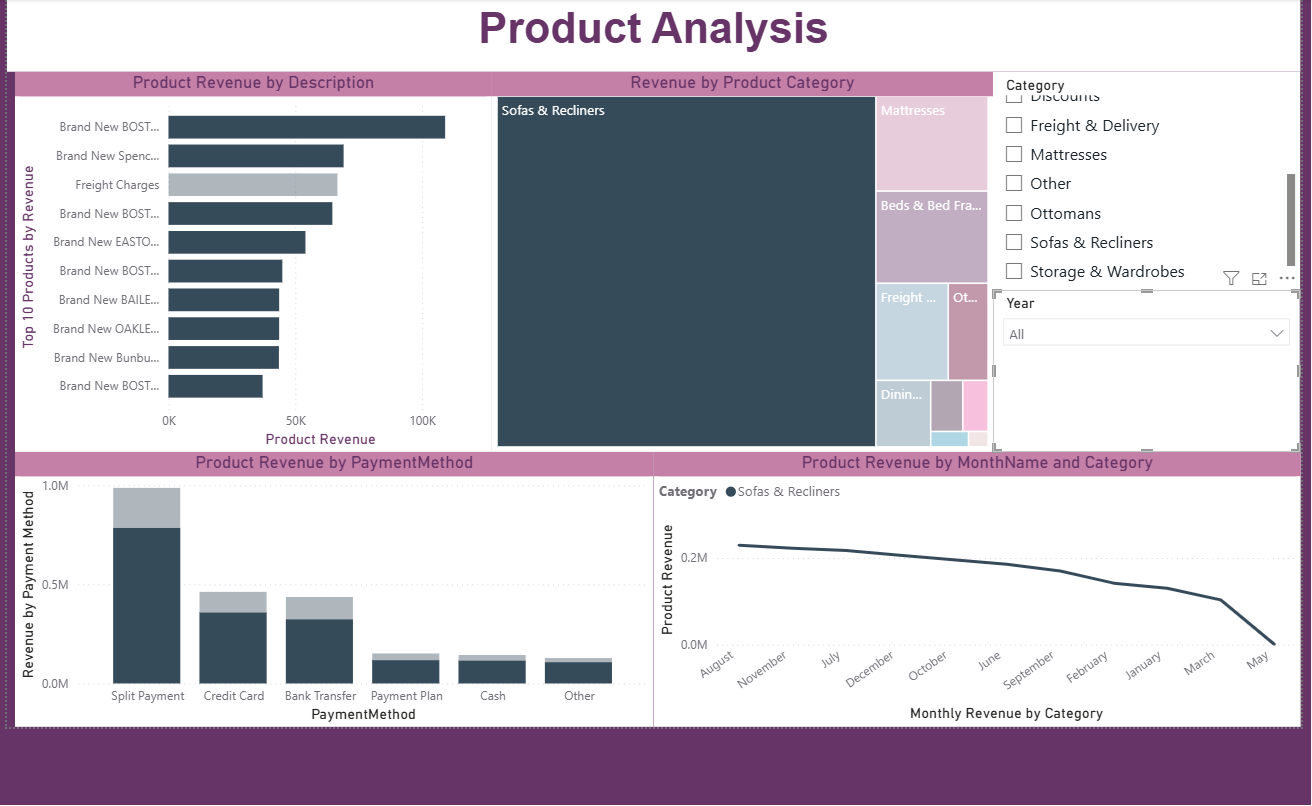

This screenshot's page, from the dashboard's own definition file:
{"tool":"powerbi","page":{"name":"Product Analysis","canvas":[1280,720],"ordinal":2},"visuals":[{"type":"clusteredBarChart","fields":{"Category":["Invoice_Line_Items.Description"],"Y":["Invoice_Line_Items.Product Revenue"]},"box":[8,72,472,376],"z":0},{"type":"treemap","title":"Revenue by Product Category","fields":{"Group":["Invoice_Line_Items.Category"],"Values":["Invoice_Line_Items.Product Revenue"]},"box":[480,72,496,376],"z":1000},{"type":"clusteredColumnChart","fields":{"Category":["Invoice_Line_Items.PaymentMethod"],"Y":["Invoice_Line_Items.Product Revenue"]},"box":[8,448,632,272],"z":2000},{"type":"lineChart","fields":{"Category":["Invoice_Line_Items.MonthName"],"Y":["Invoice_Line_Items.Product Revenue"],"Series":["Invoice_Line_Items.Category"]},"box":[640,448,640,272],"z":3000},{"type":"slicer","fields":{"Values":["Invoice_Line_Items.Category"]},"box":[976,72,304,216],"z":4000},{"type":"slicer","fields":{"Values":["Invoice_Line_Items.Year"]},"box":[976,288,304,160],"z":5000},{"type":"textbox","box":[0,0,1280,72],"z":6000}]}

Visuals, with their boxes in screenshot pixels (x1, y1, x2, y2):
clusteredBarChart - Invoice_Line_Items.Description x Invoice_Line_Items.Product Revenue: 12 69 489 449
"Revenue by Product Category" treemap: 489 69 990 449
clusteredColumnChart - Invoice_Line_Items.PaymentMethod x Invoice_Line_Items.Product Revenue: 12 449 650 724
lineChart - Invoice_Line_Items.MonthName x Invoice_Line_Items.Product Revenue: 650 449 1297 724
slicer - Invoice_Line_Items.Category: 990 69 1297 288
slicer - Invoice_Line_Items.Year: 990 288 1297 449
textbox: 3 0 1297 69
